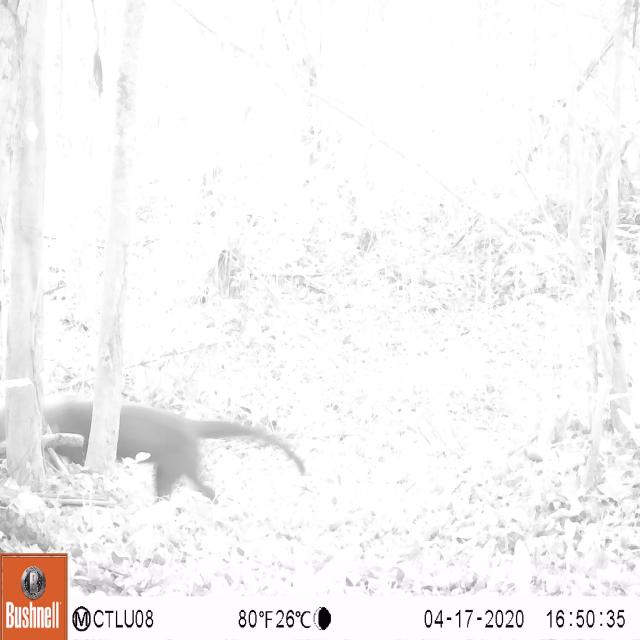Tayra: (26, 378, 311, 514)
